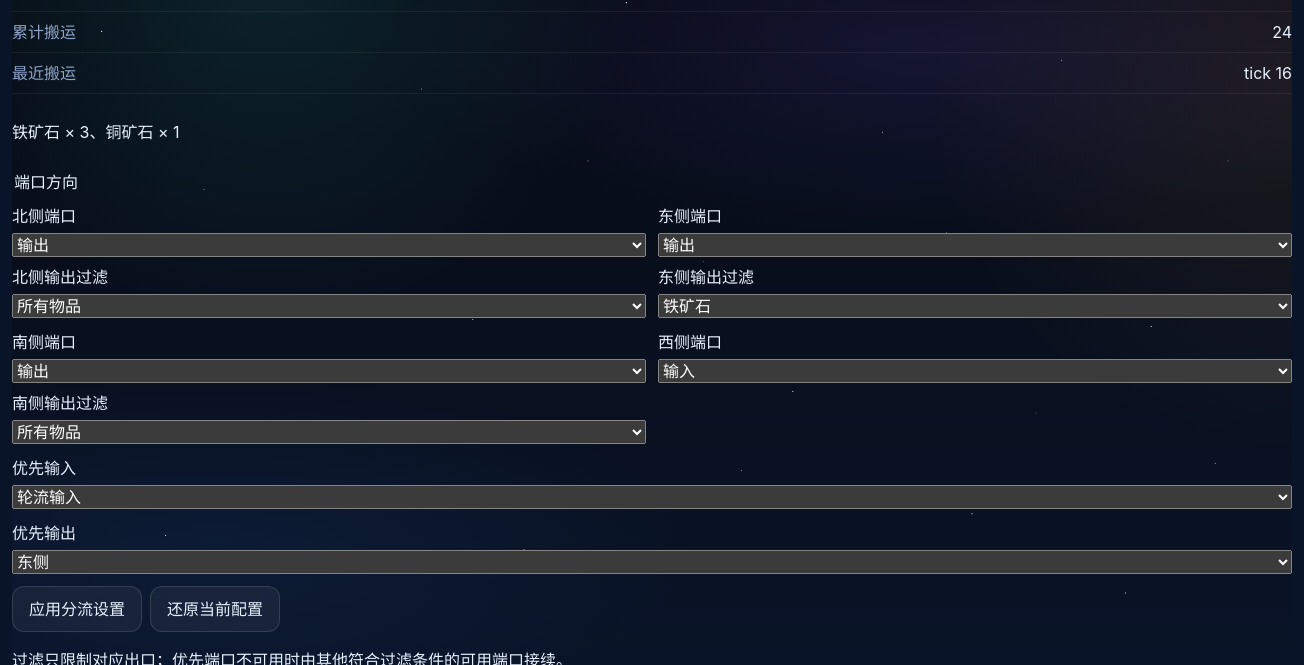
it: blocks missing input or output, including direct form submissions
Select "输出" in the dropdown labelled "西侧端口" at (975, 371), box [658, 359, 1292, 383]
(page scrolled)
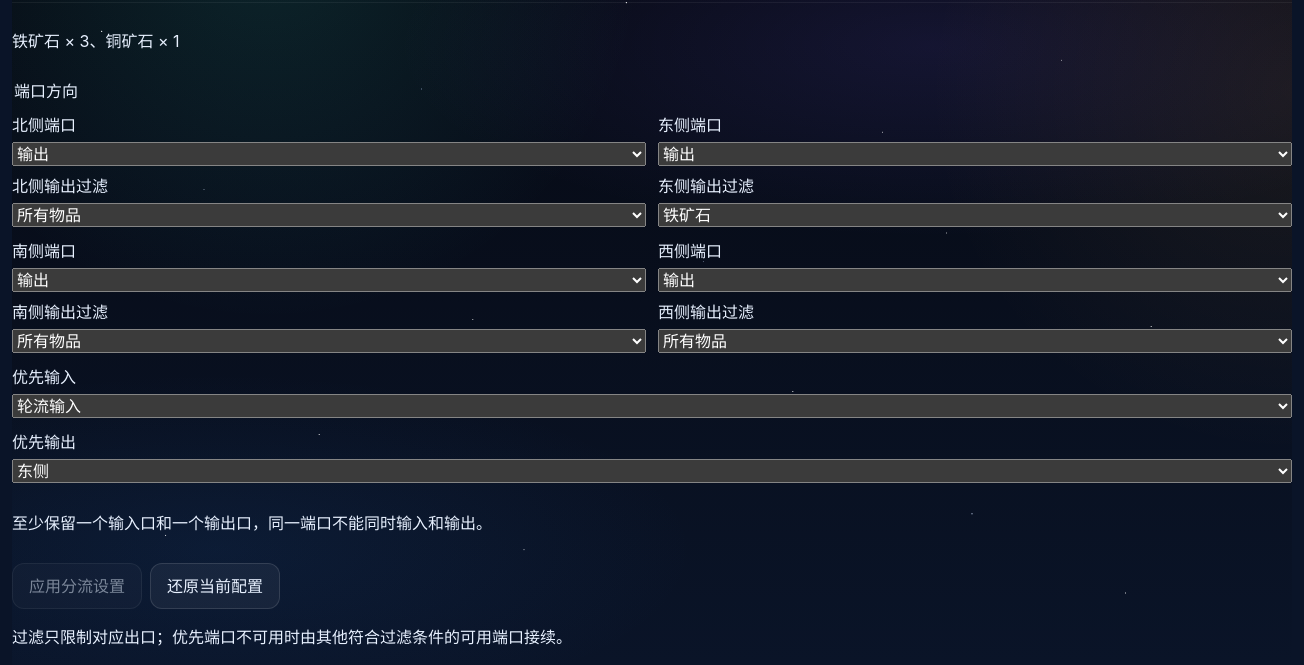
Expected: the button "应用分流设置" is disabled, [12, 563, 142, 609]
Expected: the message shows "至少保留一个输入口和一个输出口", [12, 513, 492, 533]
Submit the form named "应用分流设置"
Click the button "还原当前配置" at (215, 586), box [150, 563, 280, 609]
(page scrolled)
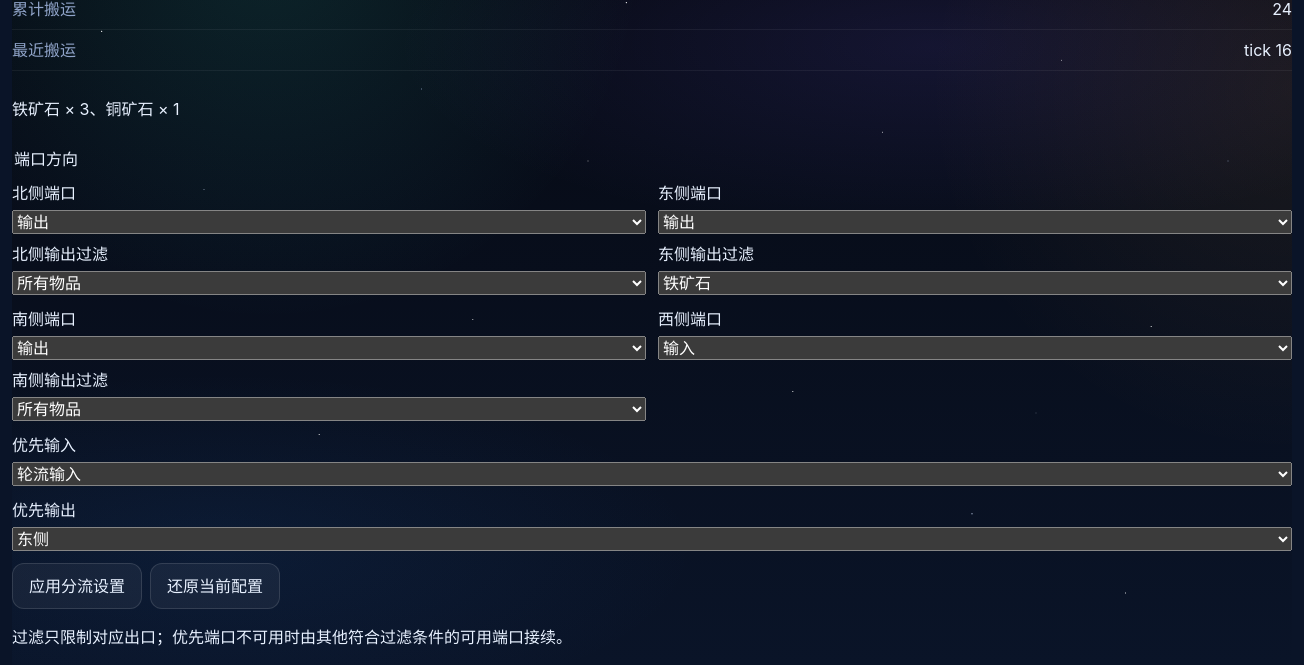
Select "输入" in the dropdown labelled "北侧端口" at (329, 222), box [12, 210, 646, 234]
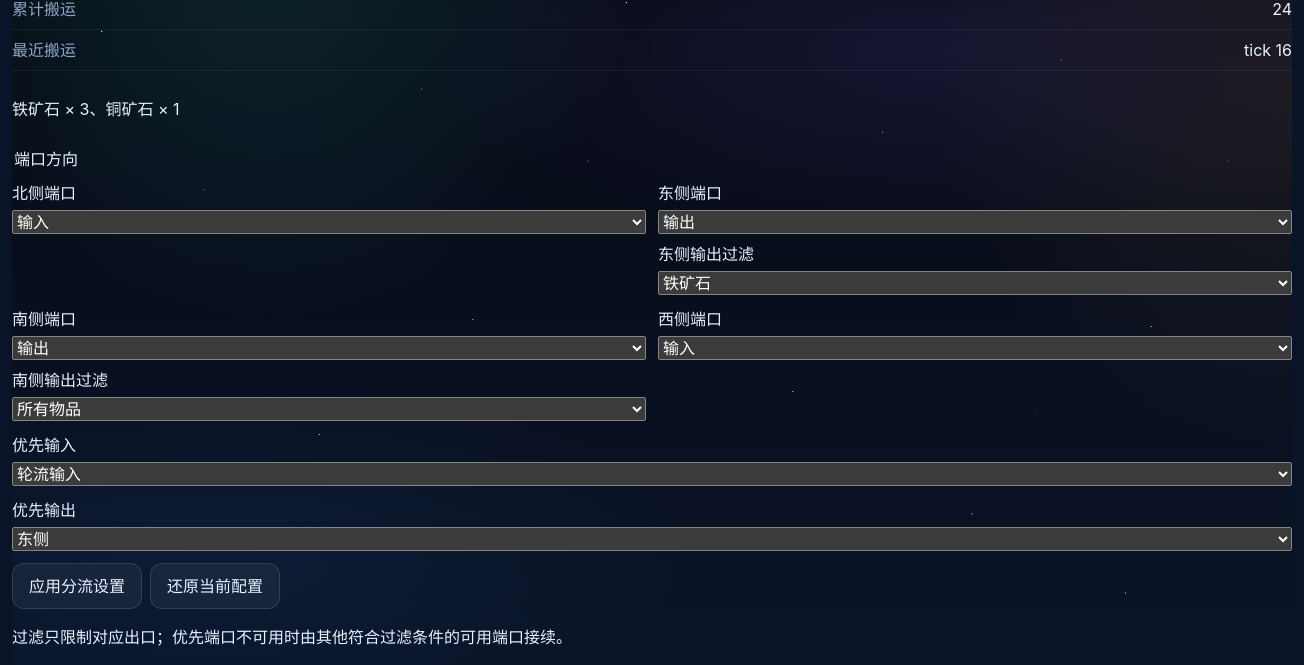
Select "输入" in the dropdown labelled "东侧端口" at (975, 222), box [658, 210, 1292, 234]
(page scrolled)
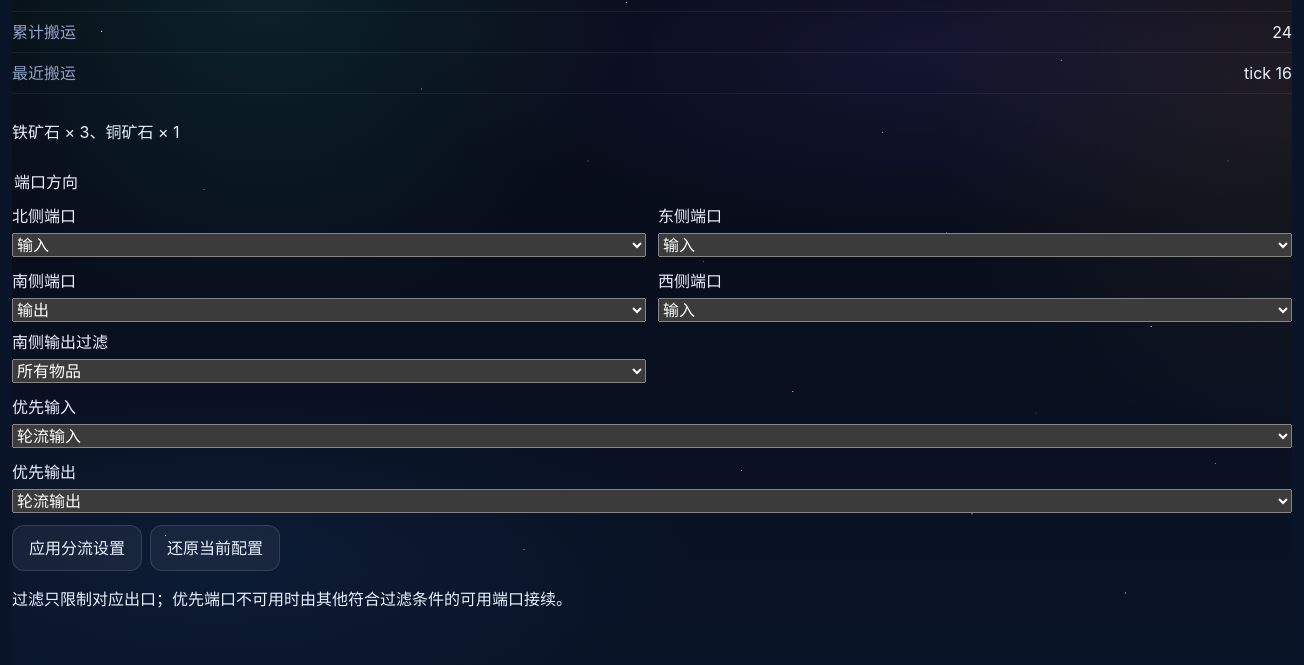
Select "输入" in the dropdown labelled "南侧端口" at (329, 310), box [12, 298, 646, 322]
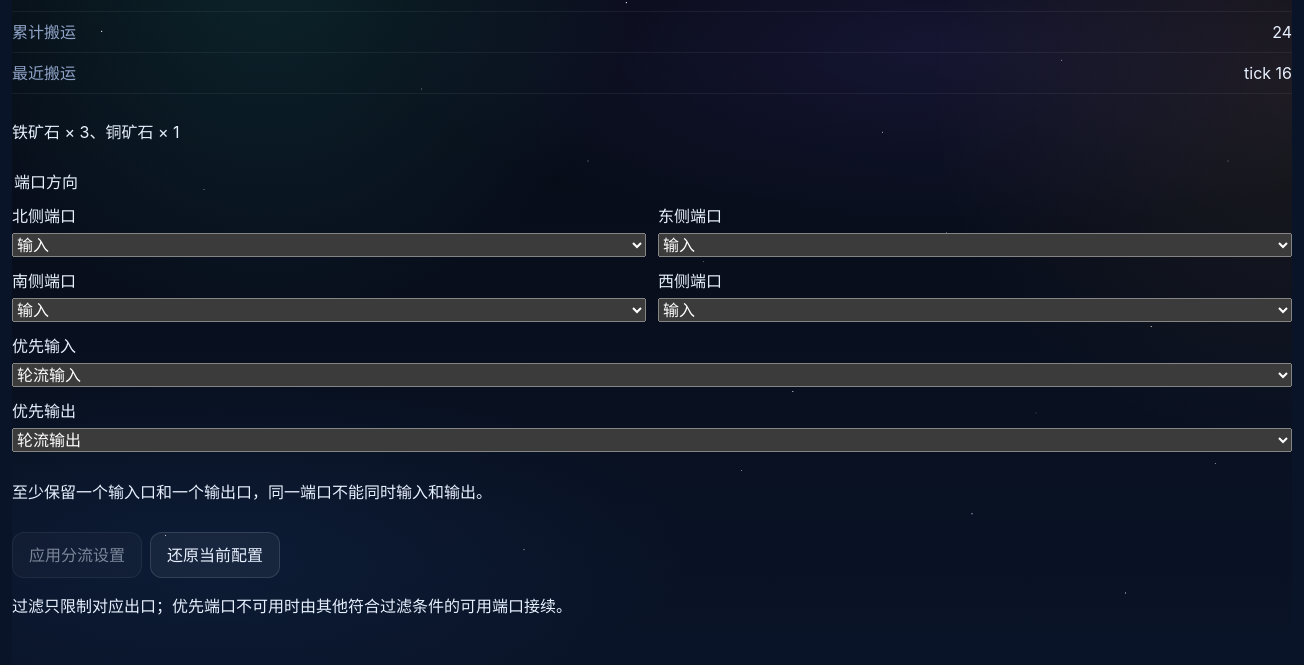
Expected: the button "应用分流设置" is disabled, [12, 532, 142, 578]
